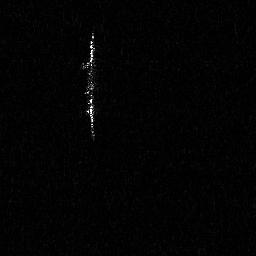ship: (79, 30, 100, 146)
